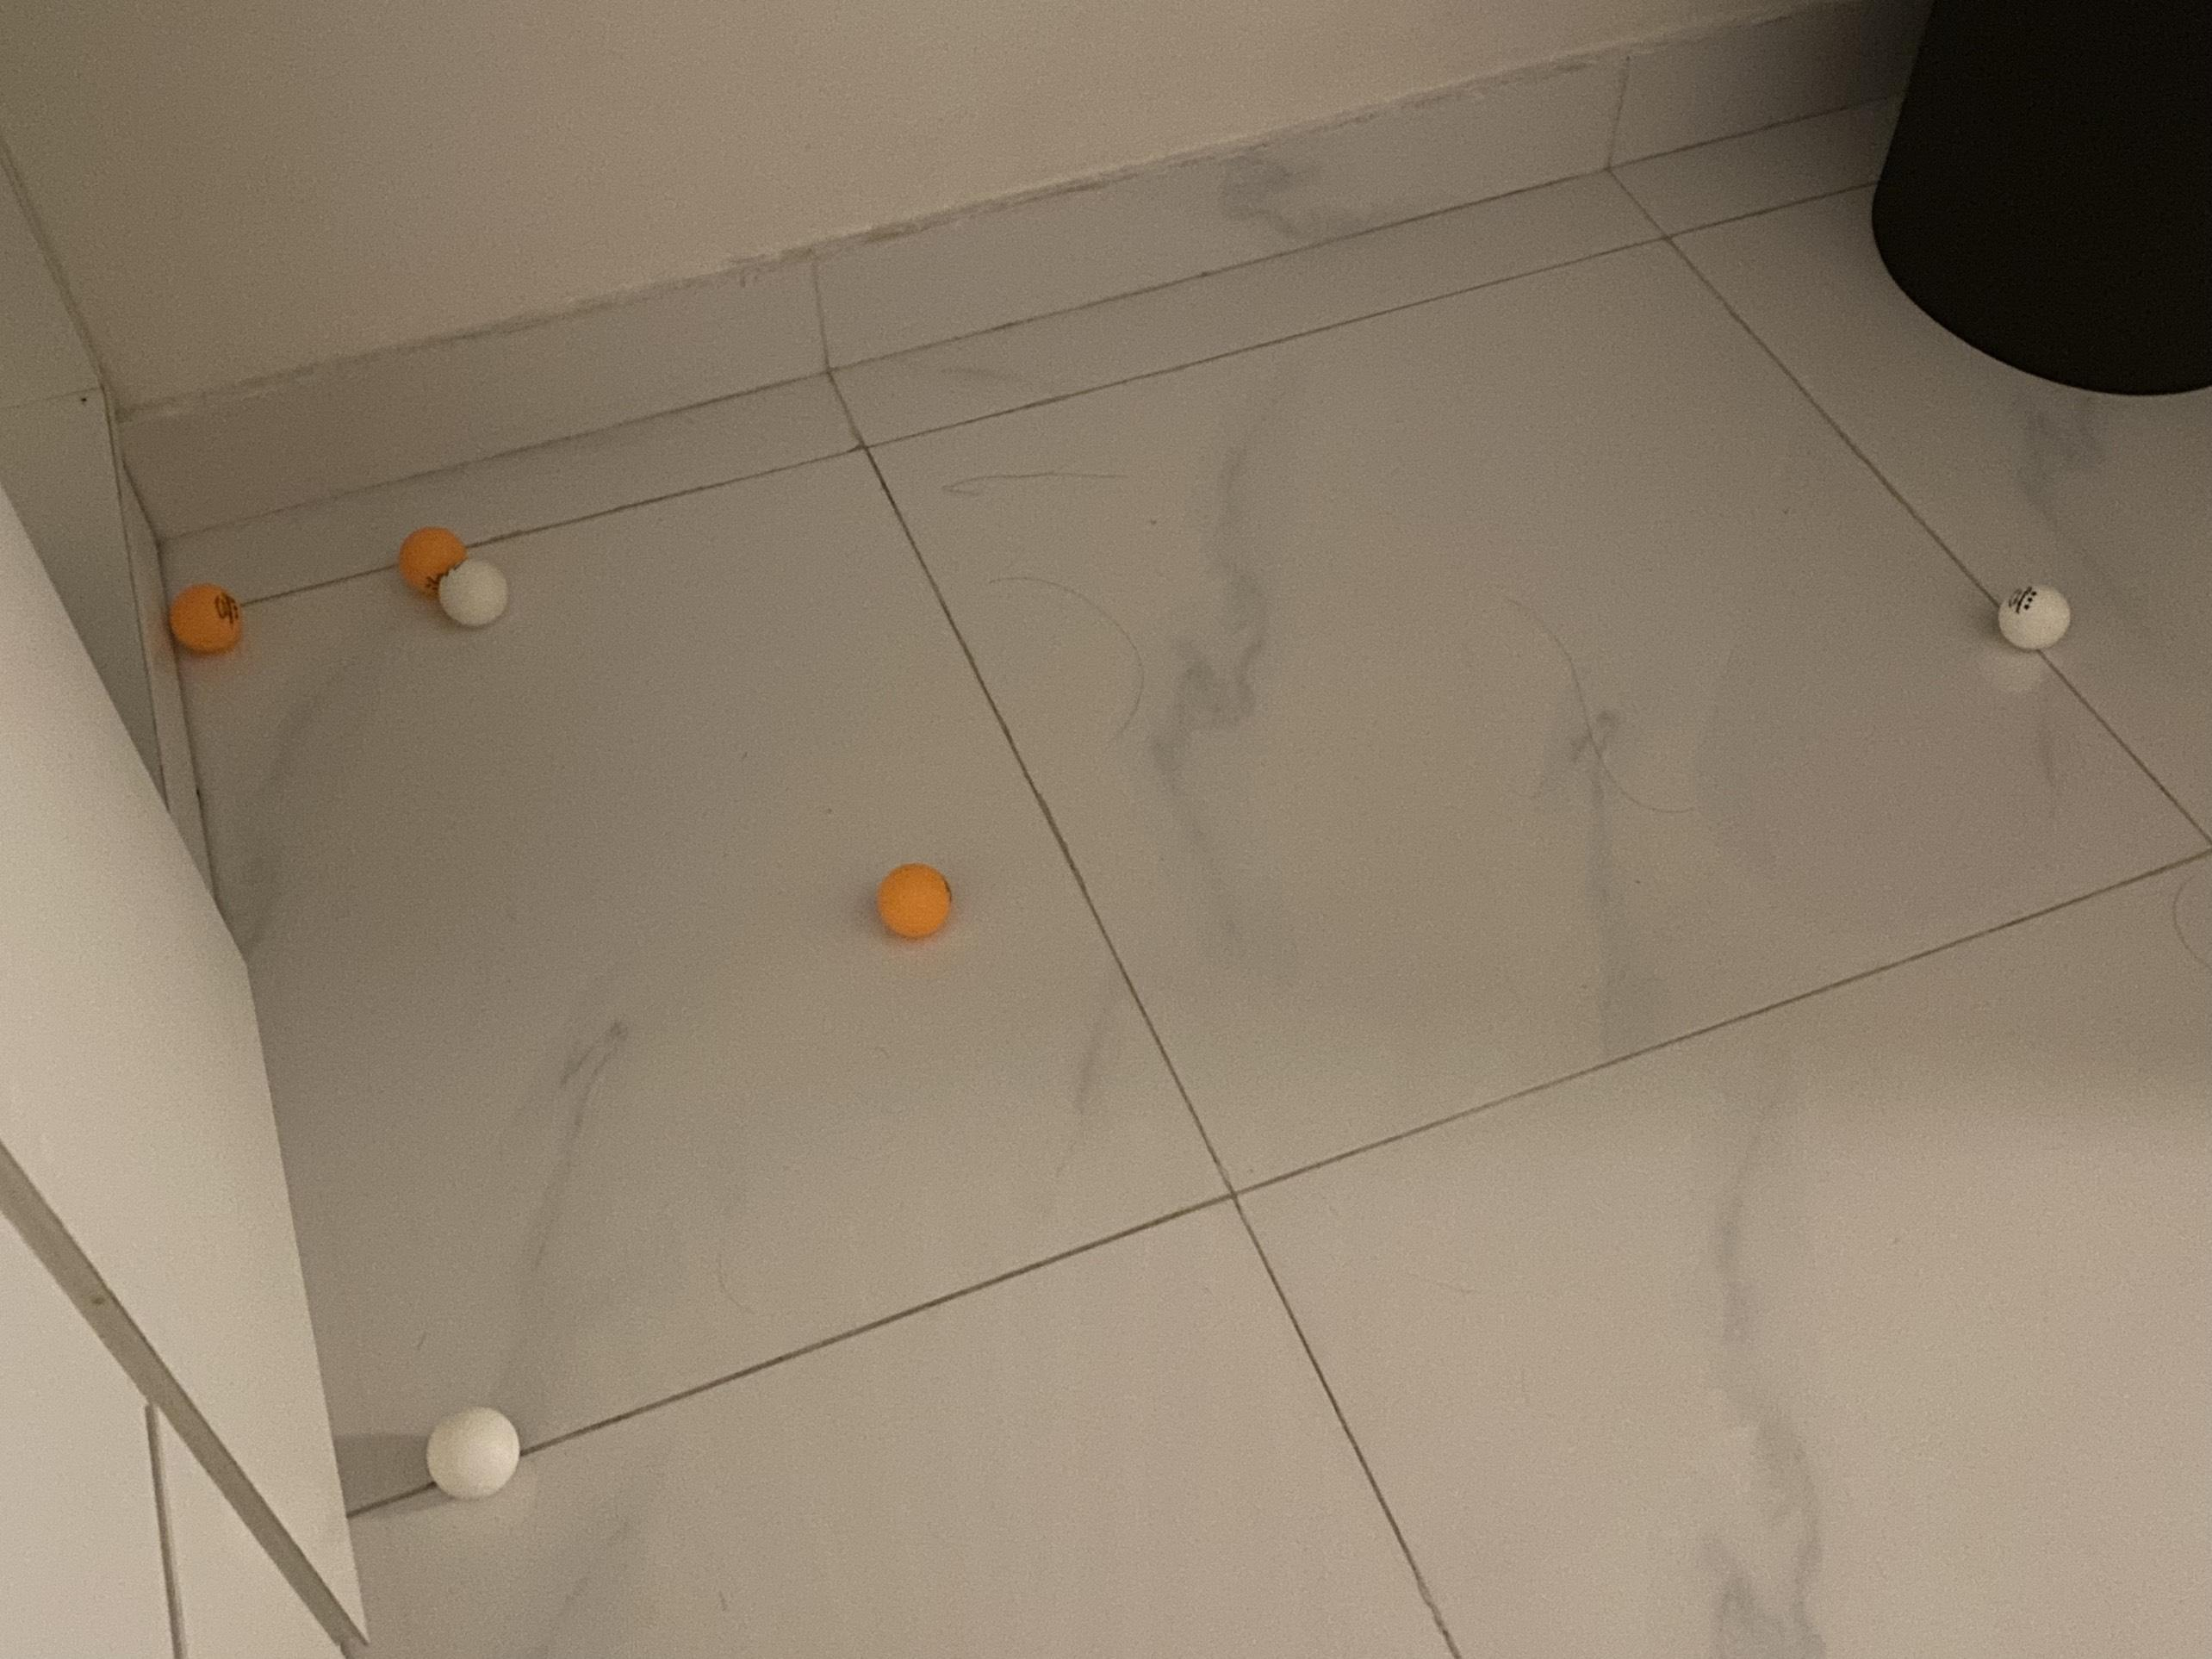oball: (873, 859, 954, 943), (165, 577, 247, 657), (395, 526, 467, 601)
